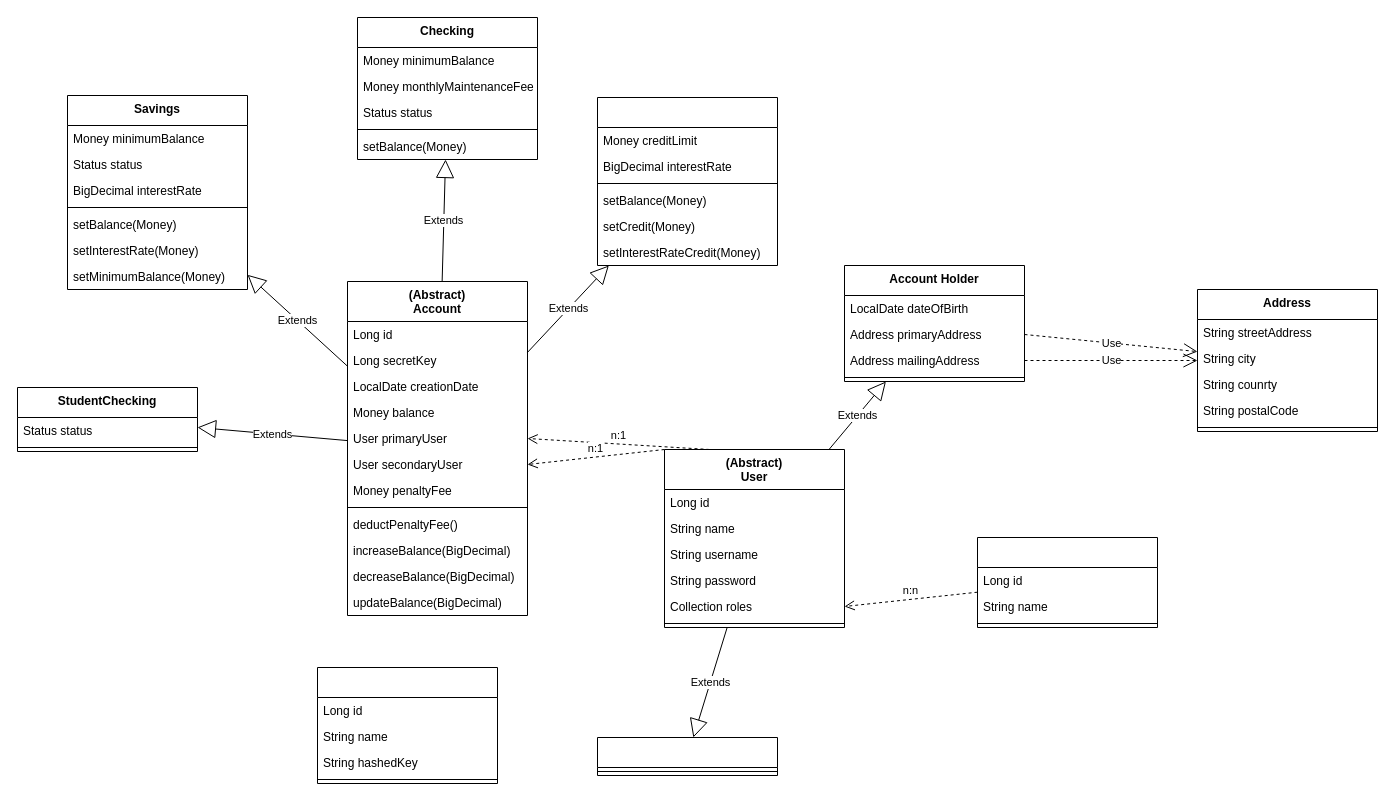
The diagram is 1395 pixels wide and 801 high, and some of its shapes have lost their labels. Each missing label, with the box of its shape:
Admin: (596, 736, 778, 776)
Credit Card: (596, 96, 778, 266)
Role: (976, 536, 1158, 628)
Third Party: (316, 666, 498, 784)
